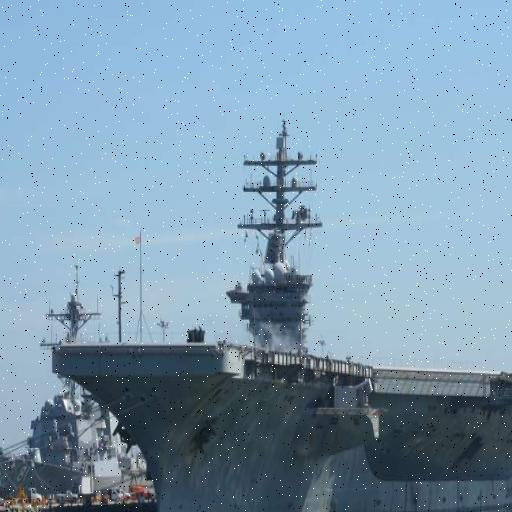Portanaves: (44, 120, 512, 512)
